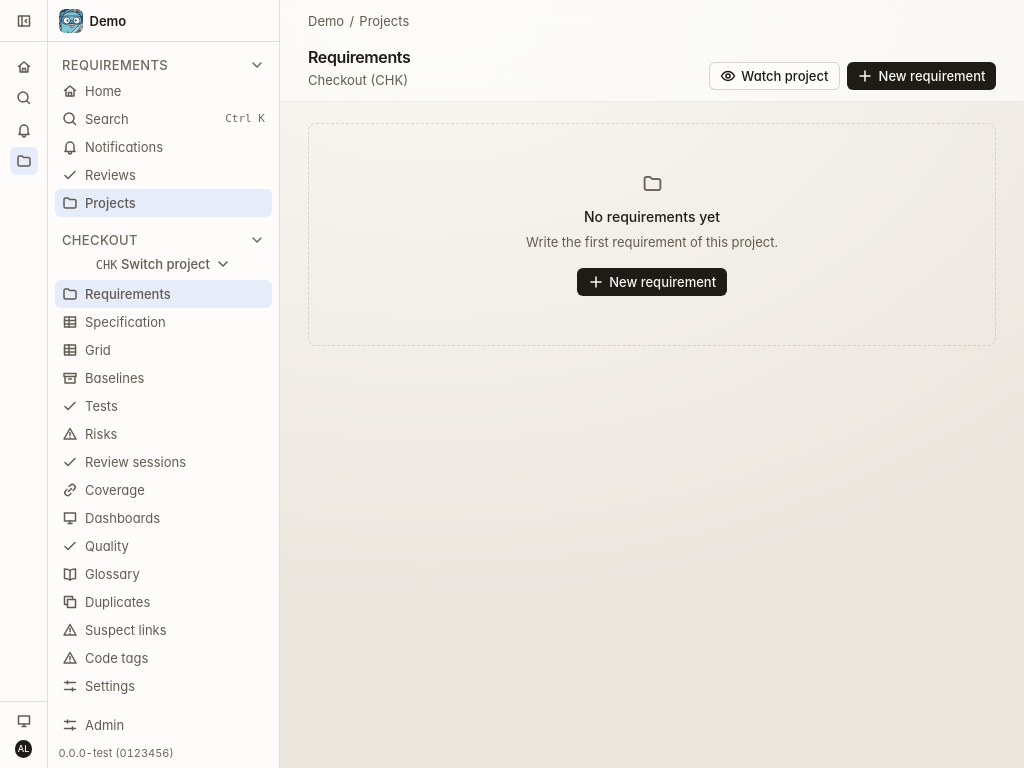
Test case: the project's watch button › says so when watching the project fails
Click the button "Watch project" at (774, 76), box [708,62,840,90]
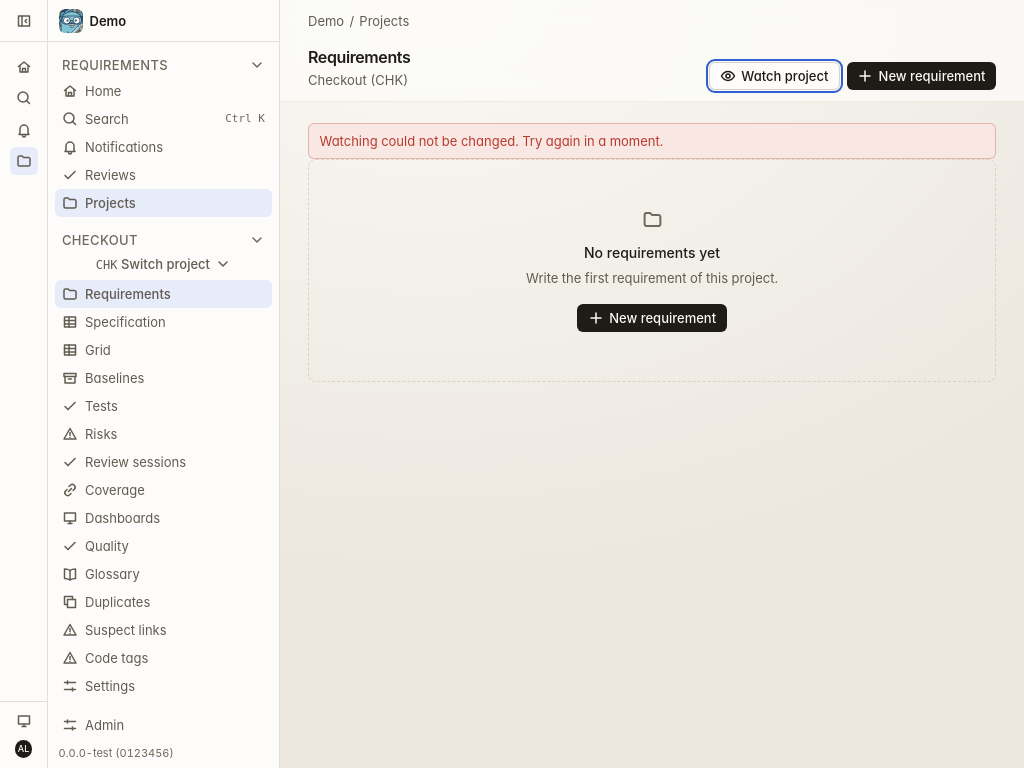
Result: the text "Watching could not be changed. Try again in a moment." is shown at [320,133,663,149]
